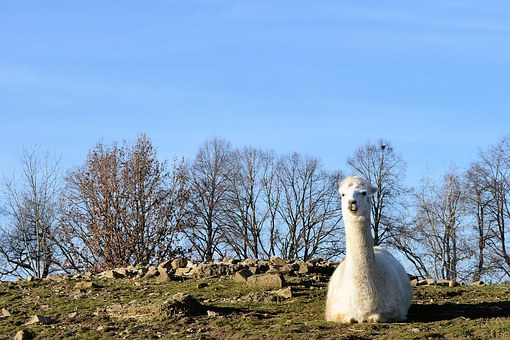alpaca: (325, 174, 413, 322)
